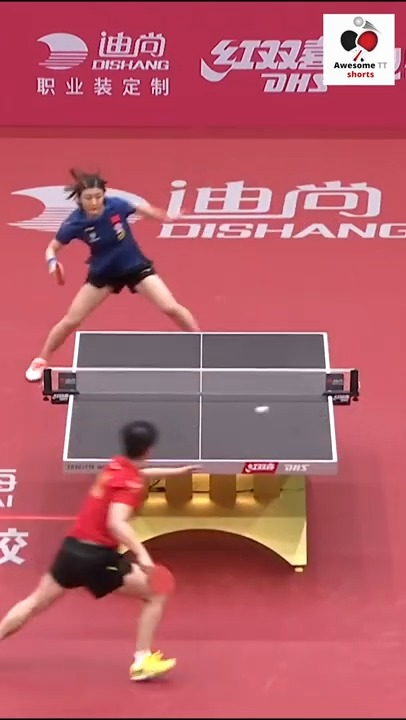Ball: (257, 404, 270, 416)
